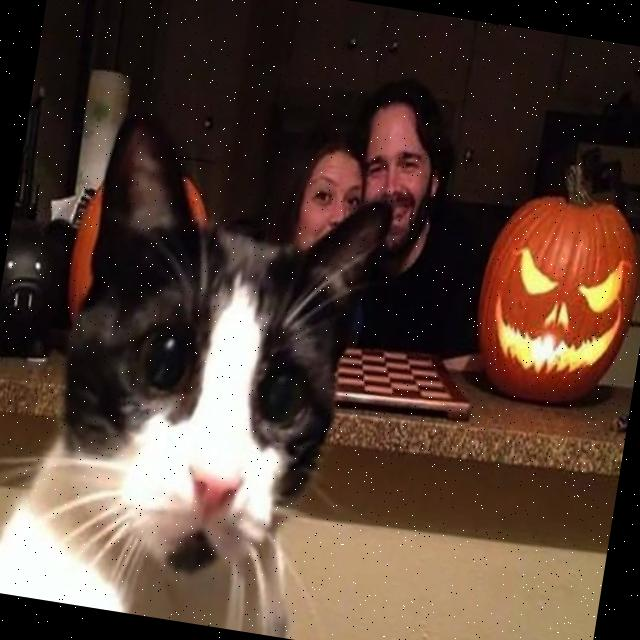cat: (9, 119, 411, 640)
